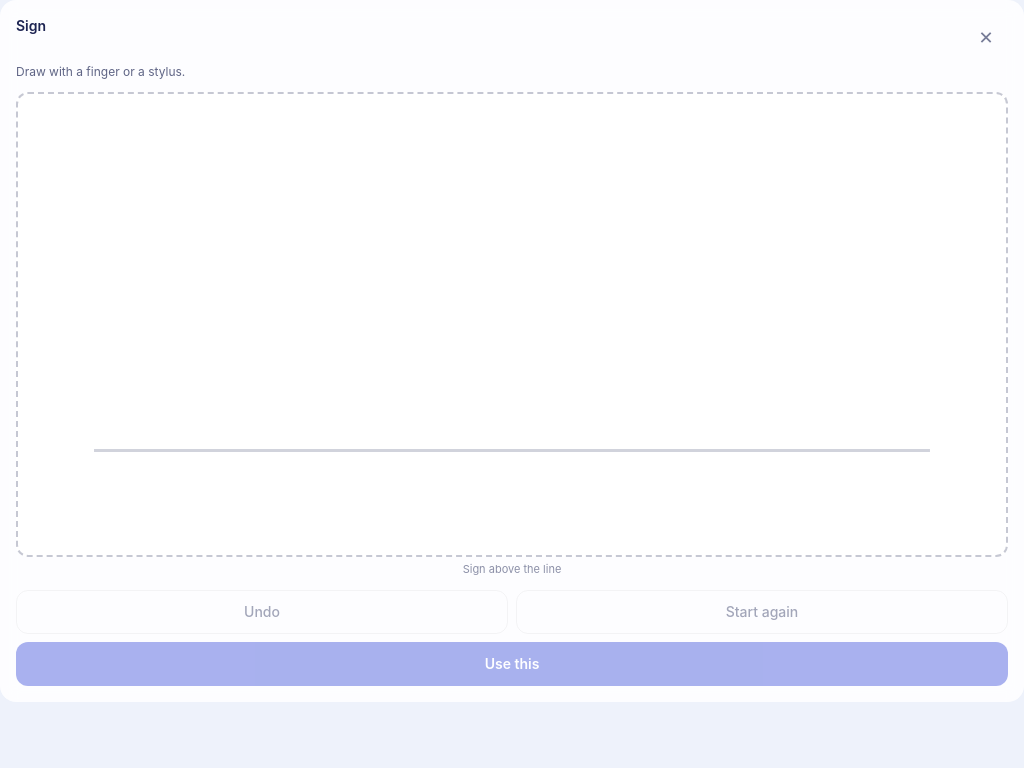
Test: A document is never marked signed with nothing on it (§P) › accepts a mark somebody meant to make
The image size is (1024, 768).
Step 1. Press the mouse on the icon named "Signing area" → [512, 324], box x1=16 y1=92 x2=1008 y2=557
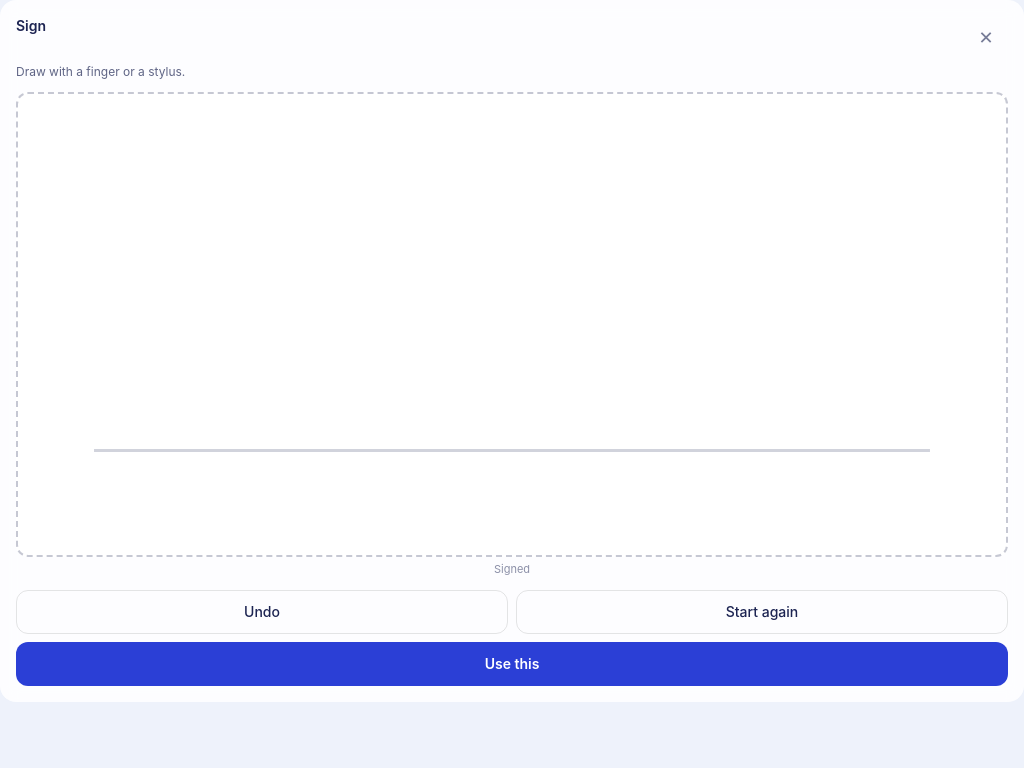
Result: the button "Use this" is enabled at x1=16 y1=642 x2=1008 y2=686
